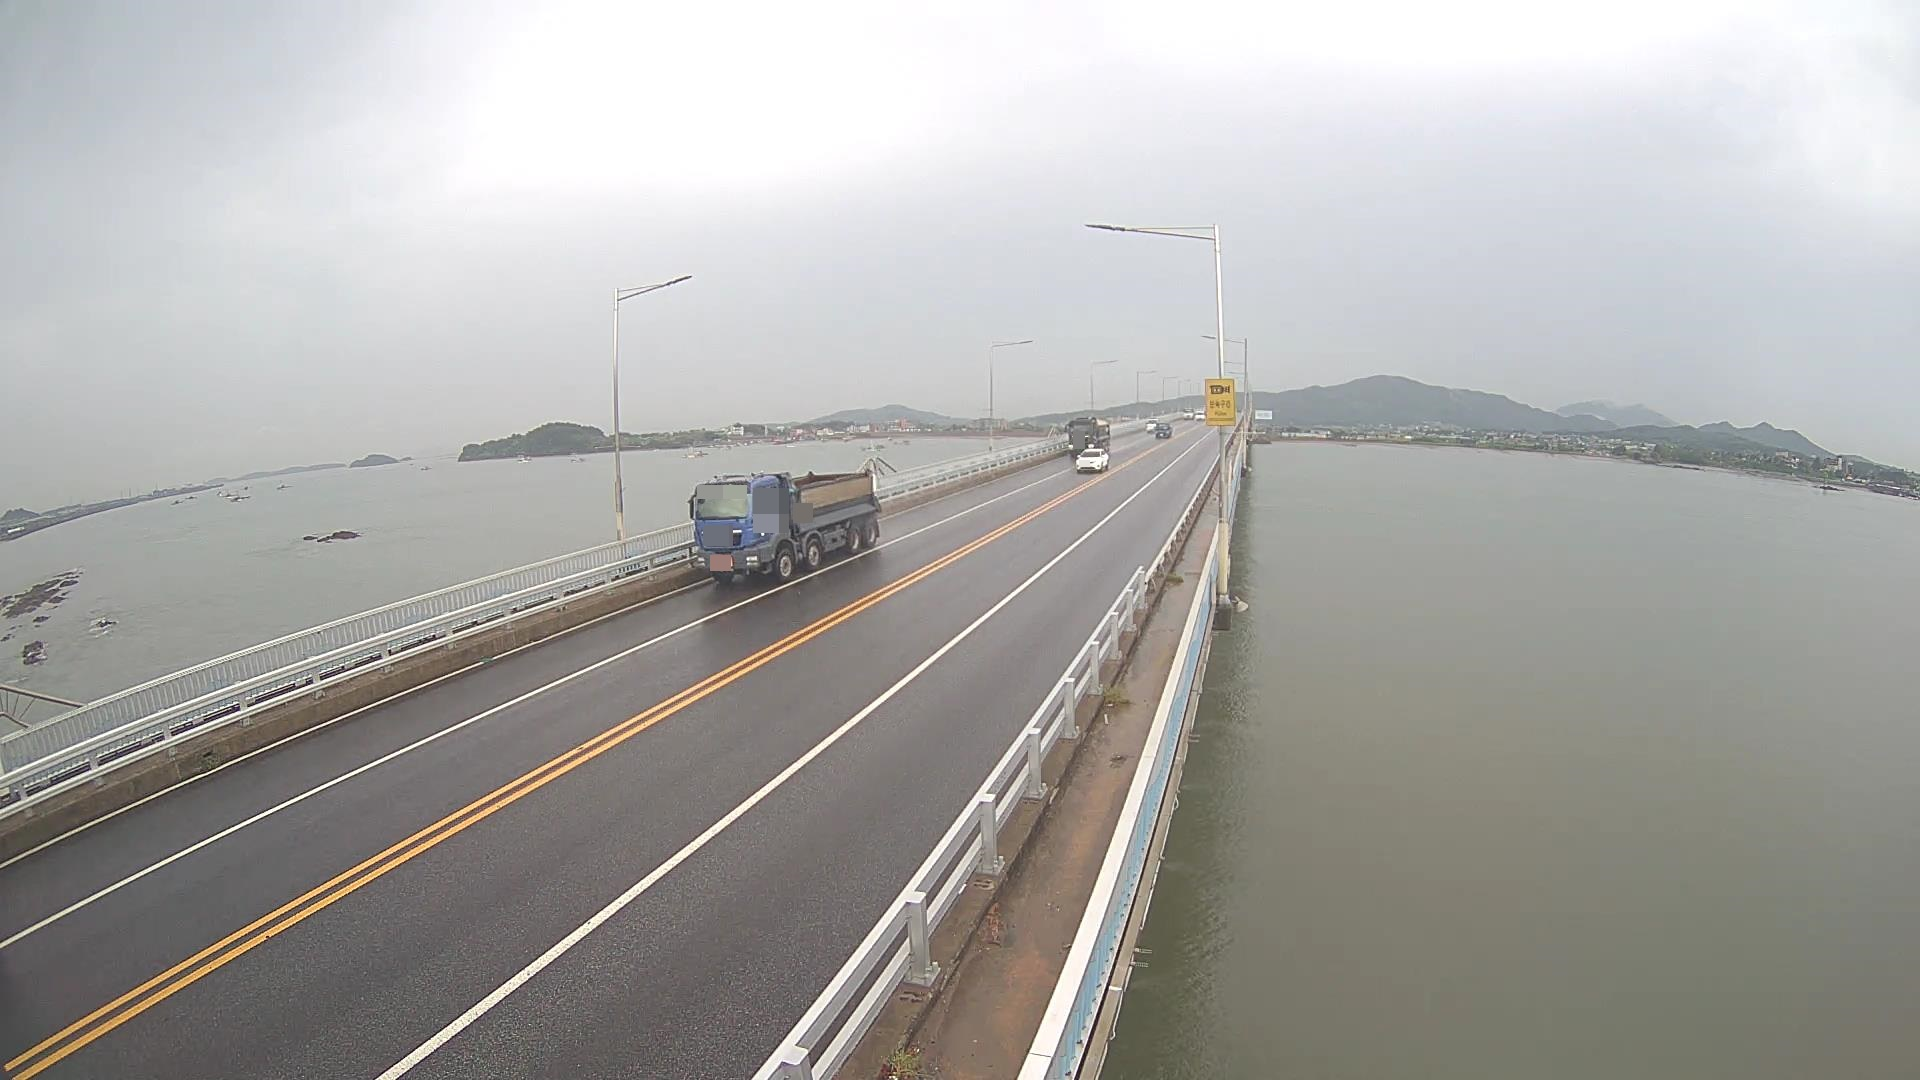정상차량: (688, 469, 882, 583)
